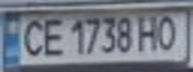1: (63, 15, 87, 55)
3: (100, 13, 121, 55)
7: (81, 15, 103, 54)
8: (115, 12, 139, 53)
C: (18, 16, 48, 58)
E: (36, 16, 66, 58)
H: (133, 12, 163, 53)
O: (151, 12, 181, 52)
